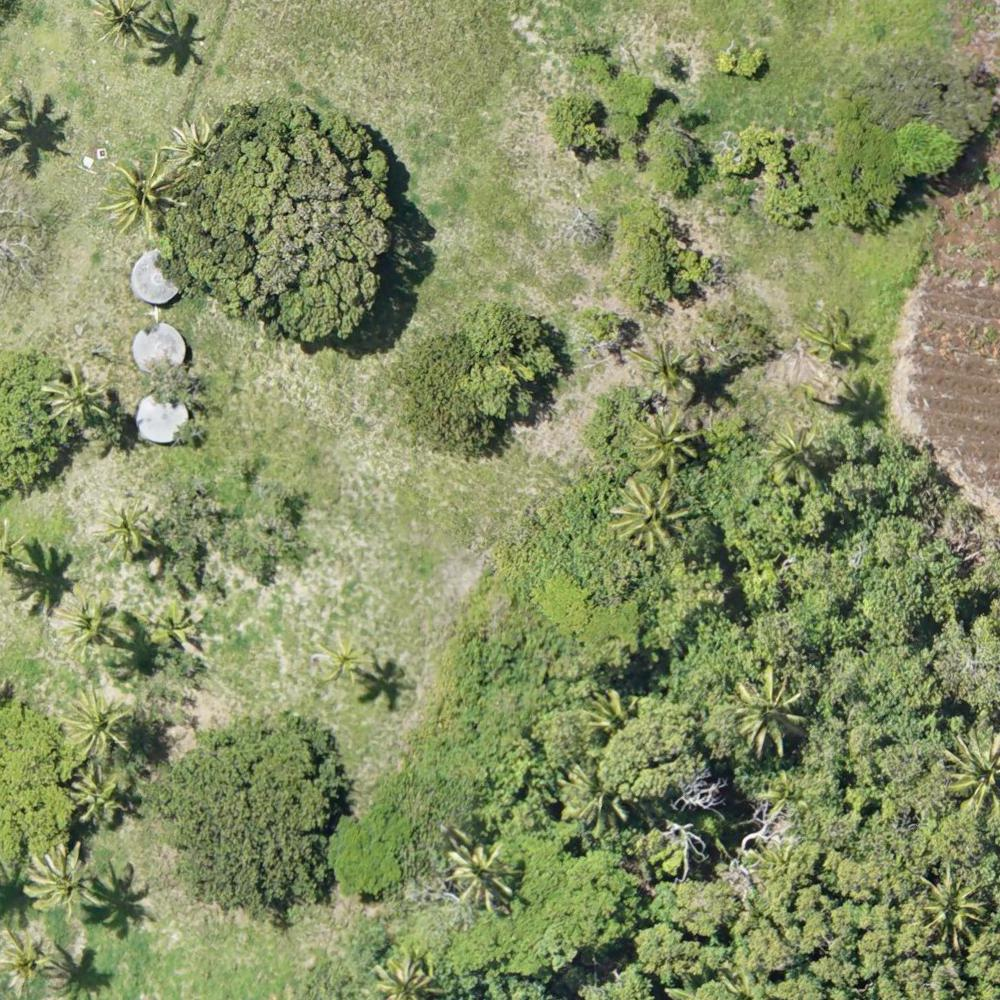Palm: (99, 149, 184, 236), (732, 668, 812, 752), (57, 681, 135, 760), (918, 866, 990, 944), (614, 482, 691, 550), (439, 842, 511, 914), (20, 847, 92, 916), (628, 407, 700, 474), (88, 496, 162, 560), (623, 333, 695, 397), (39, 365, 109, 430), (164, 113, 232, 174), (1, 927, 62, 994), (65, 771, 131, 829), (764, 419, 823, 482), (91, 1, 161, 49), (62, 600, 118, 656), (307, 628, 366, 681), (802, 309, 859, 363)
